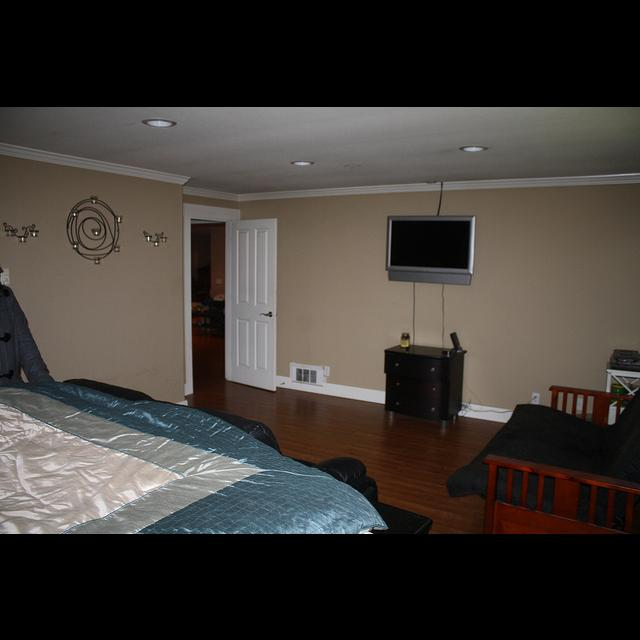Flat-Panel-TV: (387, 211, 475, 275)
TV-Remote-Control: (450, 331, 461, 350)
